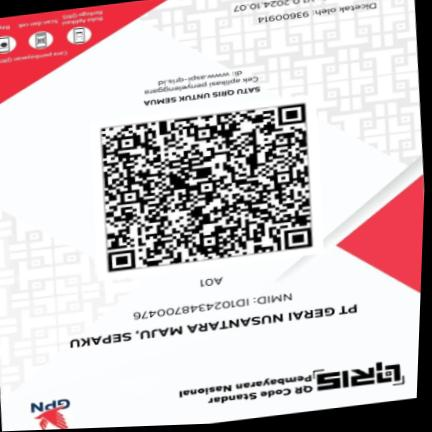Barcode_Palsu: (92, 98, 318, 278)
